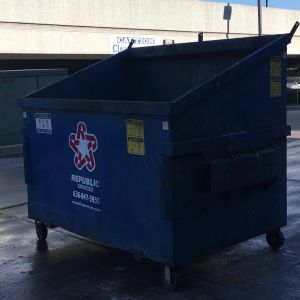Dumpster: (13, 18, 300, 293)
